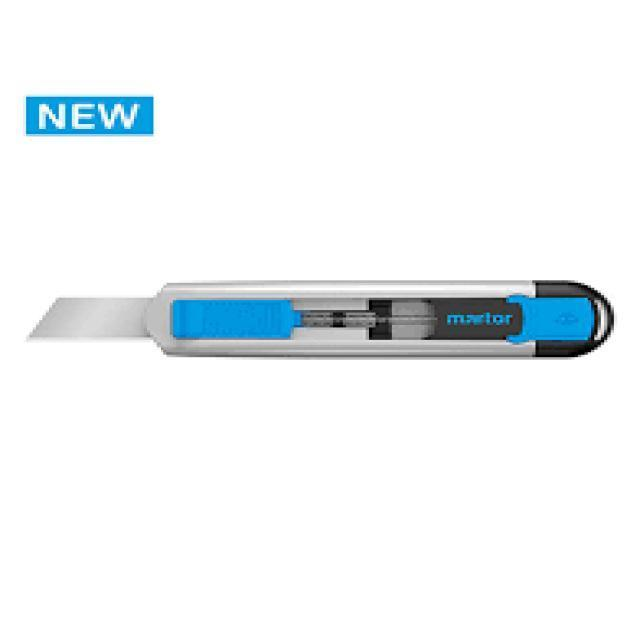cutter: (11, 270, 622, 374)
